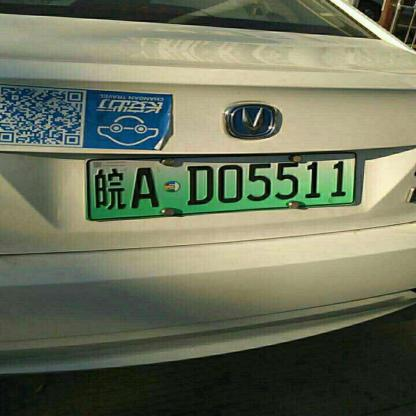lp: (79, 150, 355, 219)
